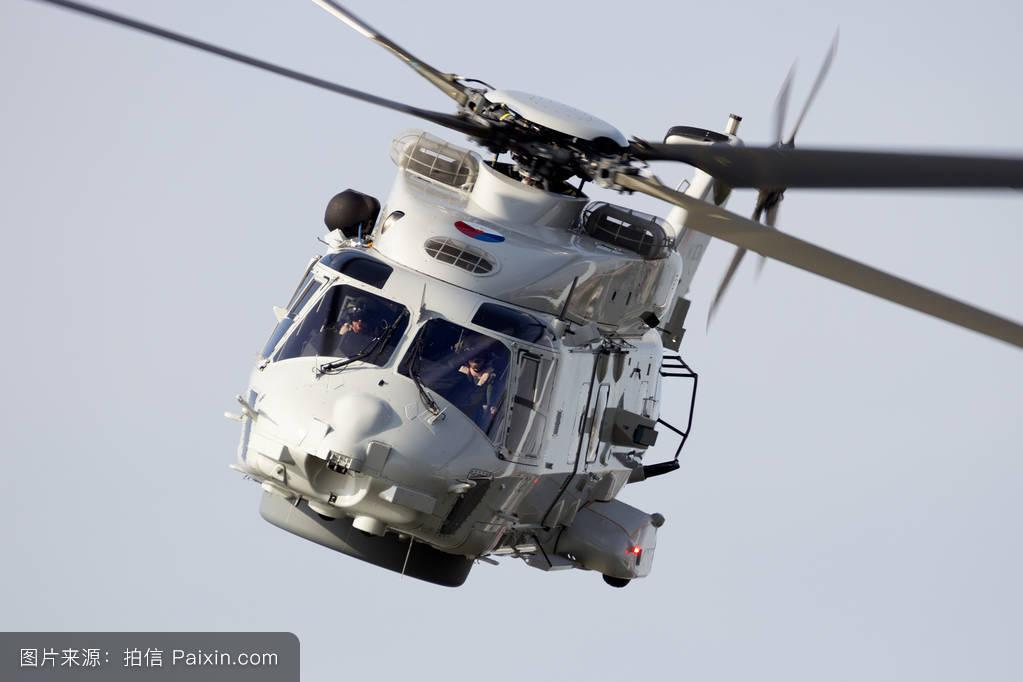airplane: (26, 1, 1023, 591)
